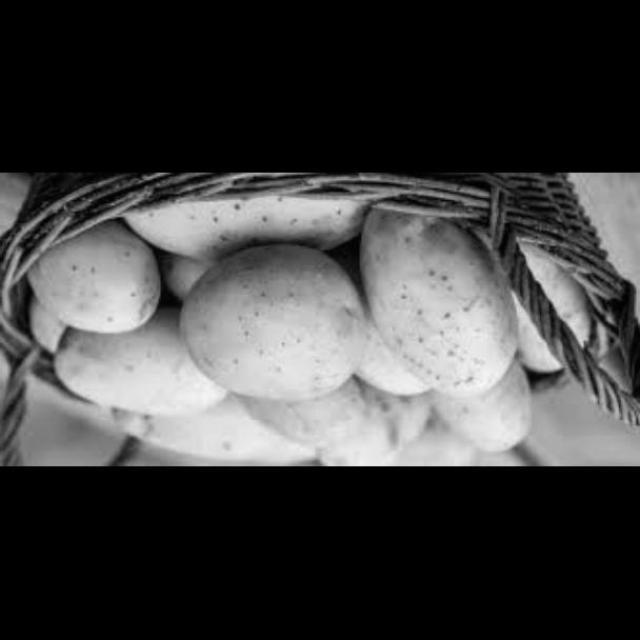potato: (359, 183, 519, 402), (185, 250, 368, 403), (8, 300, 224, 422), (14, 224, 170, 348), (135, 187, 366, 266), (493, 239, 600, 393), (258, 385, 420, 466), (109, 400, 276, 459), (437, 378, 529, 464)
